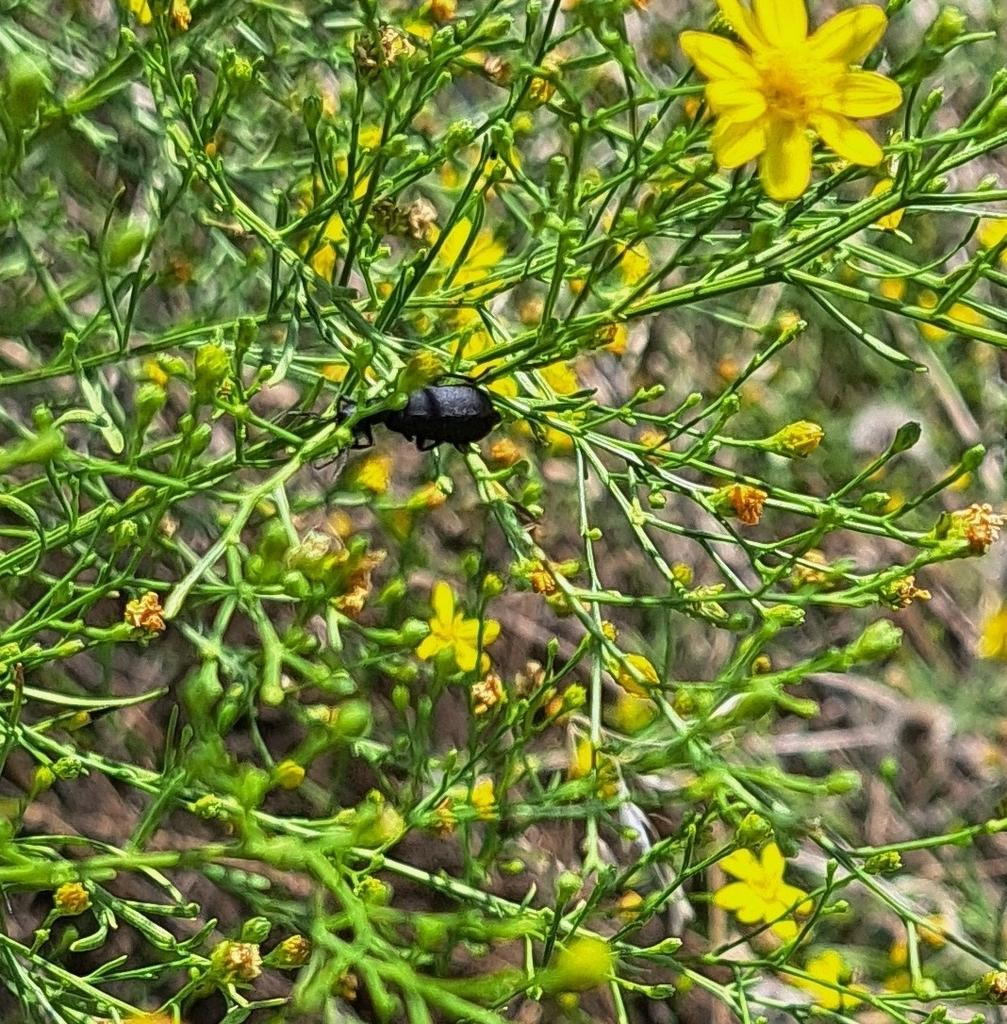blister_beetle: (298, 354, 512, 471)
